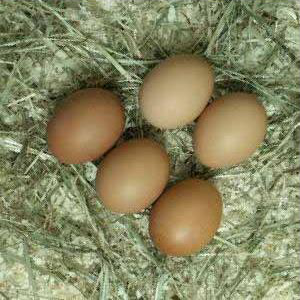egg: (47, 88, 126, 164), (192, 92, 268, 170), (148, 179, 222, 257), (139, 54, 215, 129), (96, 139, 170, 214)
